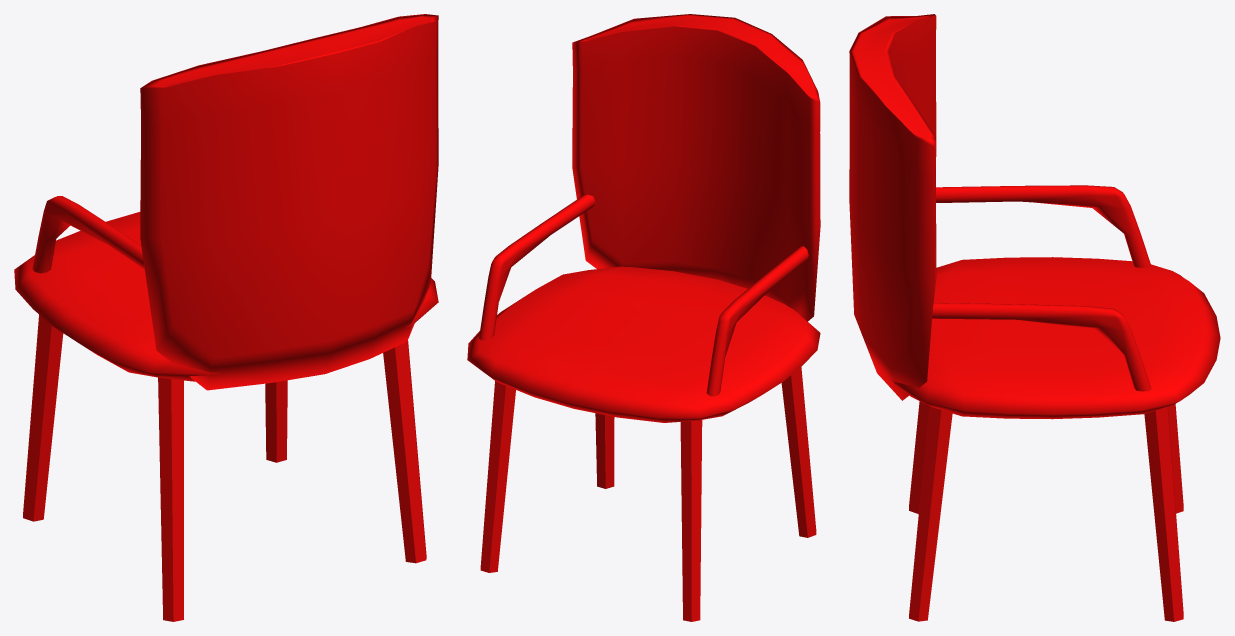
The model's file is good chair.fbx.
The picture shows the model from 3 angles, left to right: view 1: azimuth 30°, elevation 25°; view 2: azimuth 150°, elevation 25°; view 3: azimuth 270°, elevation 25°; orthographic projection. The views are drawn at different scales.
Visible parts, largest first — view 1: good_chair; view 2: good_chair; view 3: good_chair.
Part boxes in pixels (x1,y1,x2,y2): good_chair: (14, 14, 438, 621); good_chair: (467, 14, 820, 621); good_chair: (849, 14, 1220, 621).
Bounding box in the file's own units: 3.57 × 5.64 × 3.69.
1 material, 1 textured.
